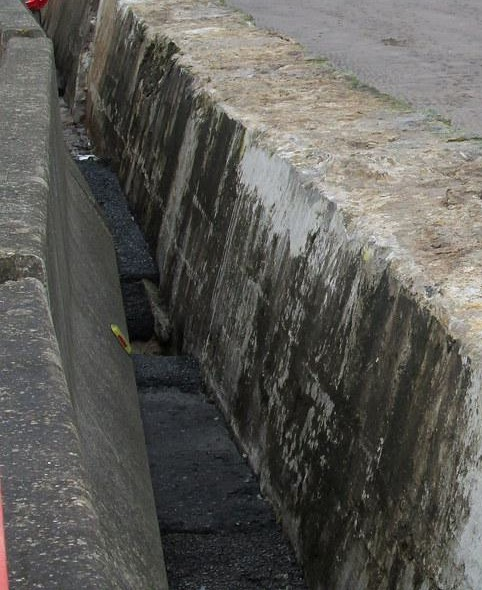Corrosion: (76, 1, 482, 590)
